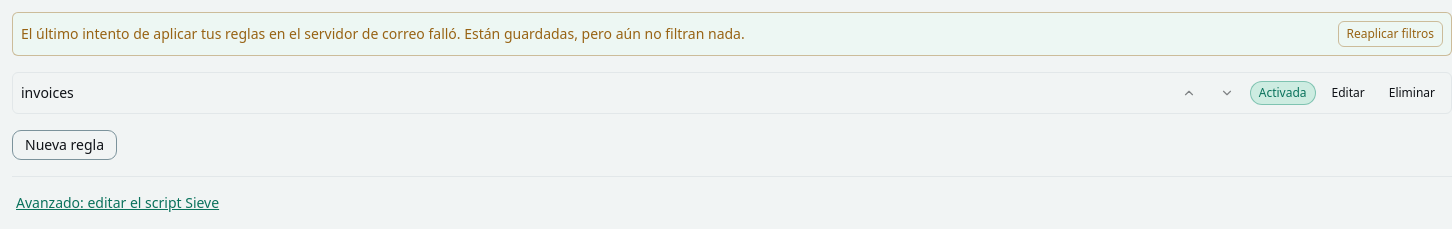
Scenario: FilterSettings › sieve sync state (GH #254) › offers the retry on a state read at load time, with no error in this session
This screenshot has width=1452, height=229.
Click the button "Reaplicar filtros".
click(1390, 34)  # box [1338,21,1443,47]
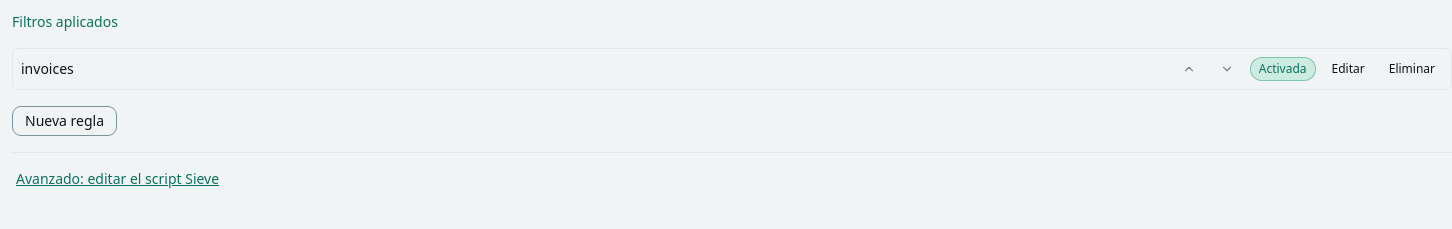
Result: the text "Filtros aplicados" is shown at [12,12,118,31]
Result: the message with test id "sieve-sync-warning" is gone
